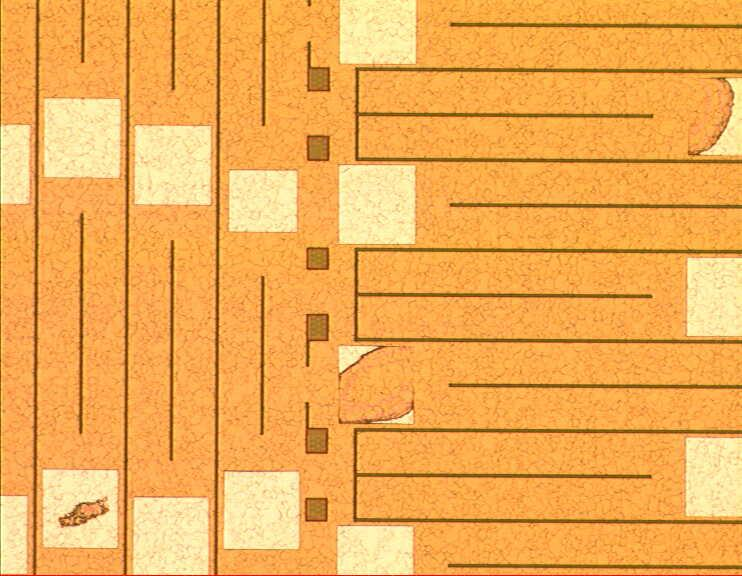BLOCK ETCH: (43, 55, 742, 541)
